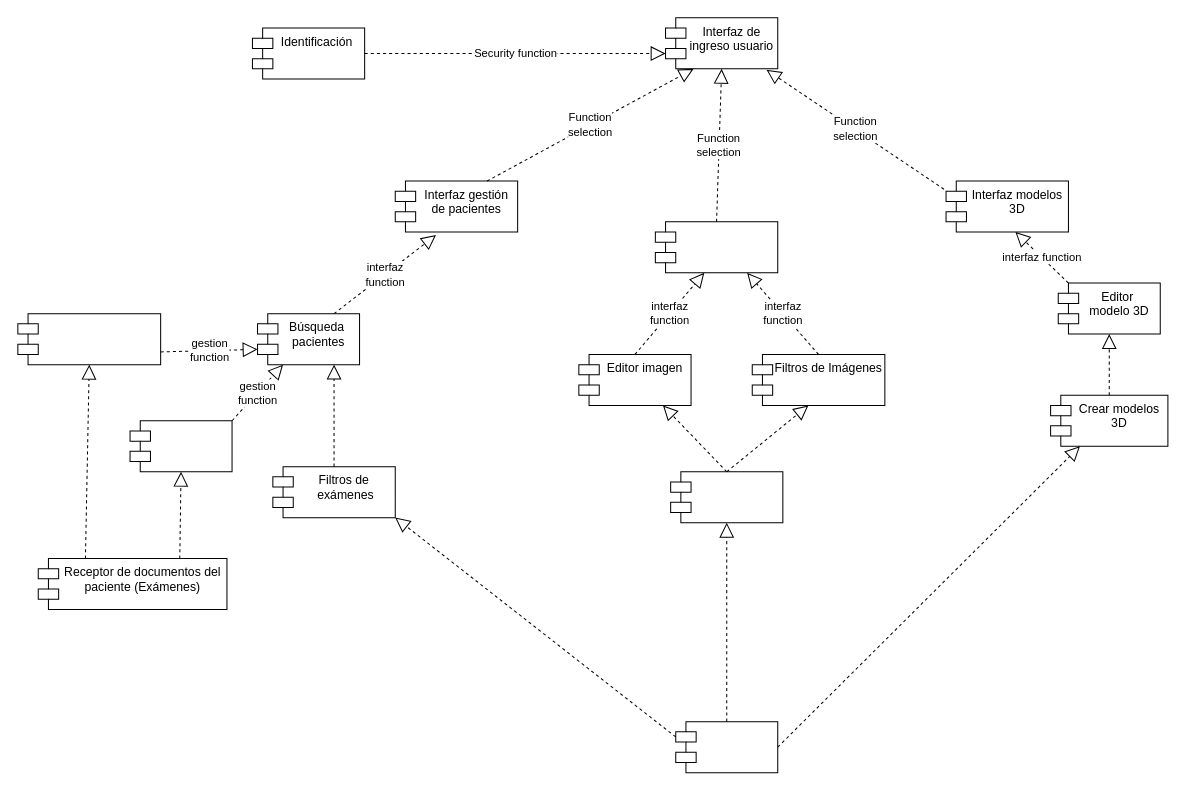
This 1186x791 diagram has some shape labels left out. The shapes that lost their labels are listed below. From the top down, each one's box as (x1, y1, x2, y2) in pixels, then its label:
(654, 221, 778, 273): Interfaz gestión de imágenes
(17, 313, 161, 365): Creación del registro del paciente
(129, 420, 232, 472): Editor paciente
(670, 471, 783, 523): Abrir/cerrar Imagen
(675, 721, 778, 773): Base de Datos
